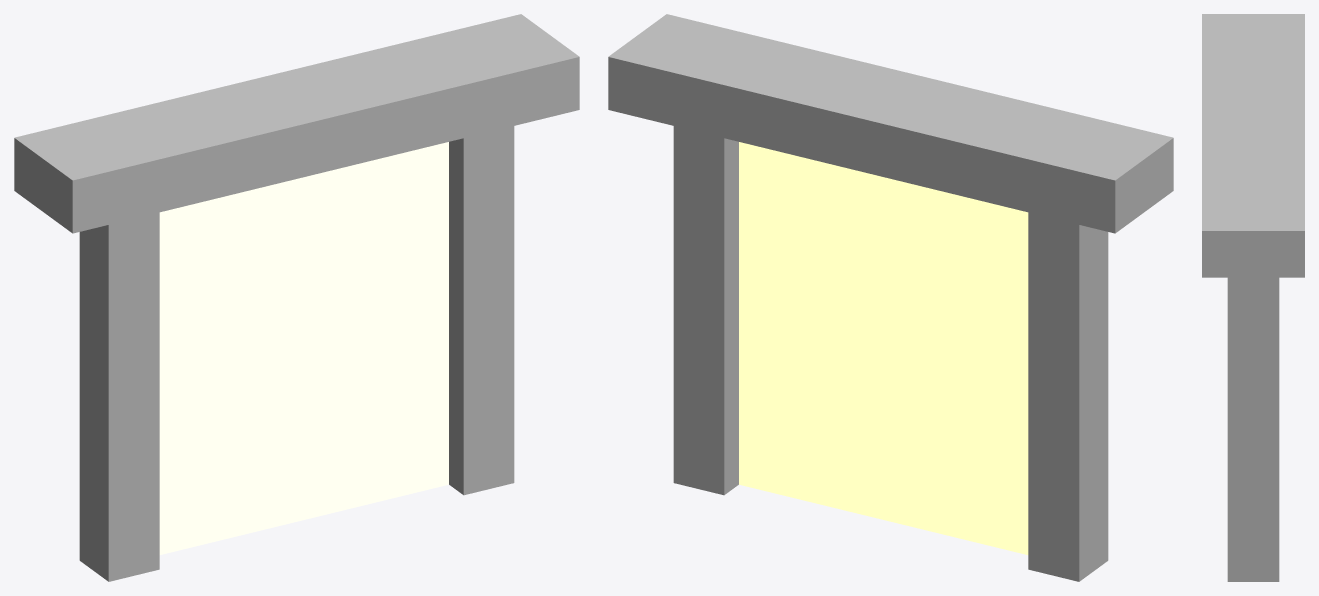
The model's file is 传送门 黄色.fbx.
3 renders of one model, left to right at view 1: azimuth 30°, elevation 25°; view 2: azimuth 150°, elevation 25°; view 3: azimuth 270°, elevation 25°, orthographic. The views are drawn at different scales.
Parts seen in each view (by area): view 1: Cube.002; view 2: Cube.002; view 3: Cube.002.
Part boxes in pixels (<box>): Cube.002: <box>14,14,579,581</box>; Cube.002: <box>608,14,1173,581</box>; Cube.002: <box>1202,14,1304,581</box>.
Bounding box in the file's own units: 100 × 20 × 80.
